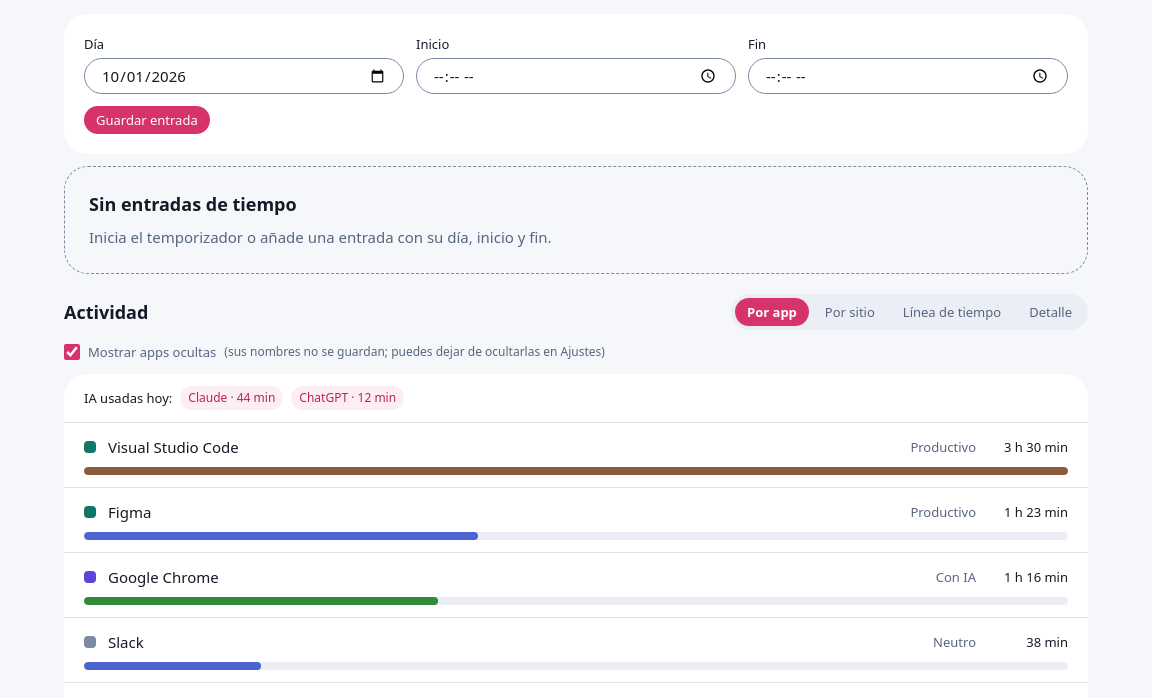
Test: Mi día › dice qué IA se usó y cuánto, y permite quitar las apps ocultas de la vista
(page scrolled)
Expected: the element labelled "IA usadas hoy" shows "Claude · 44 min", [64,374,1088,423]
Expected: the element labelled "IA usadas hoy" shows "ChatGPT · 12 min", [64,374,1088,423]
Click the checkbox labelled "Mostrar apps ocultas" at {"x": 72, "y": 352}, box [64,344,80,360]
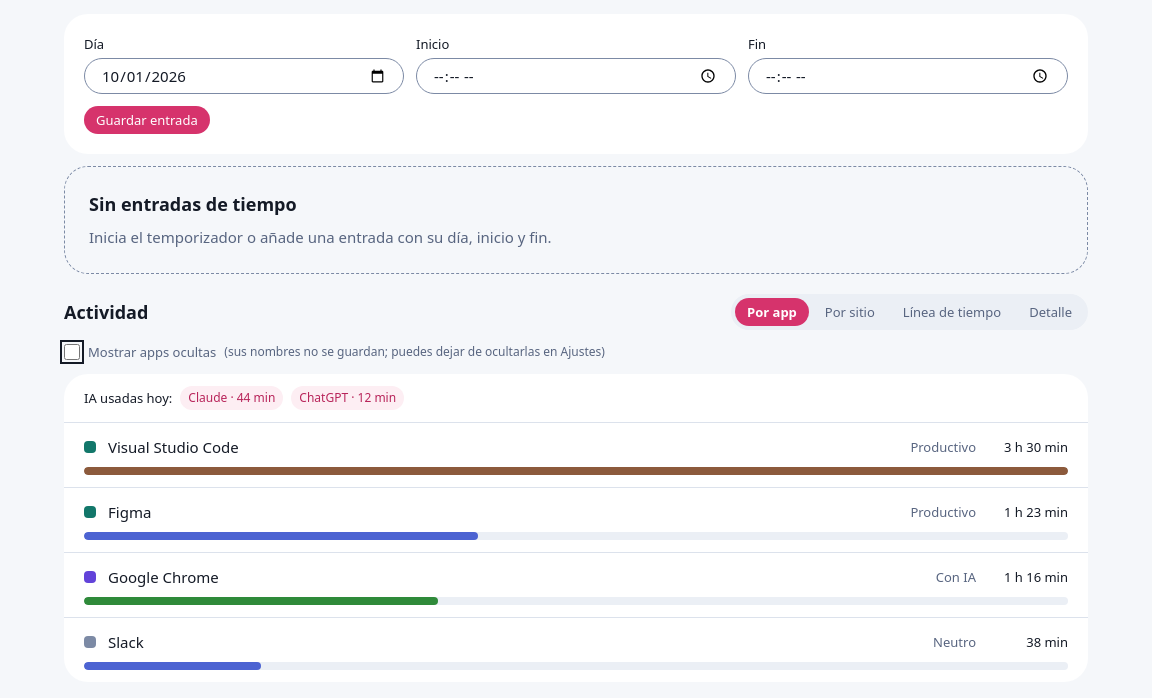
Now the list named "Tiempo por app" no longer shows "App oculta", box [64,423,1088,682]
